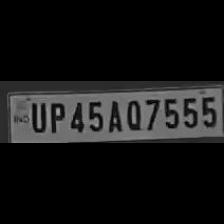4: (68, 98, 84, 132)
5: (85, 97, 105, 132), (160, 95, 180, 129), (198, 94, 218, 128), (180, 94, 198, 128)
7: (140, 96, 160, 132)
A: (104, 97, 124, 132)
P: (45, 99, 65, 134)
Q: (123, 96, 143, 132)
U: (27, 100, 46, 132)
